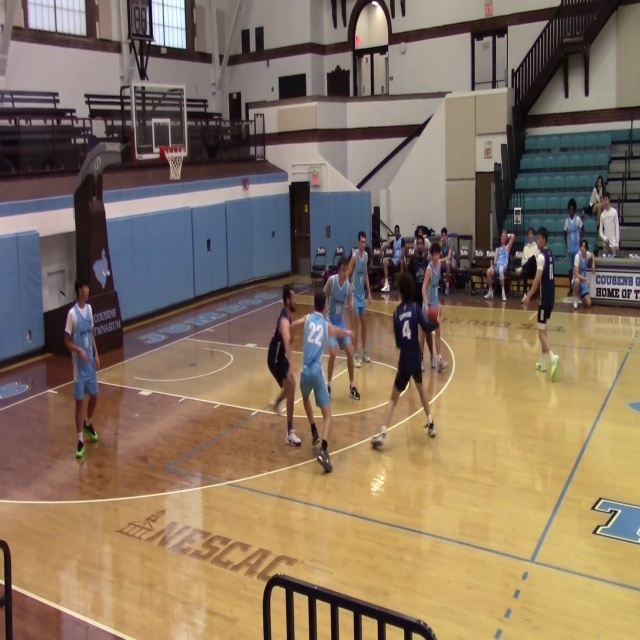Basketball: (337, 334, 352, 349), (426, 305, 439, 322)
